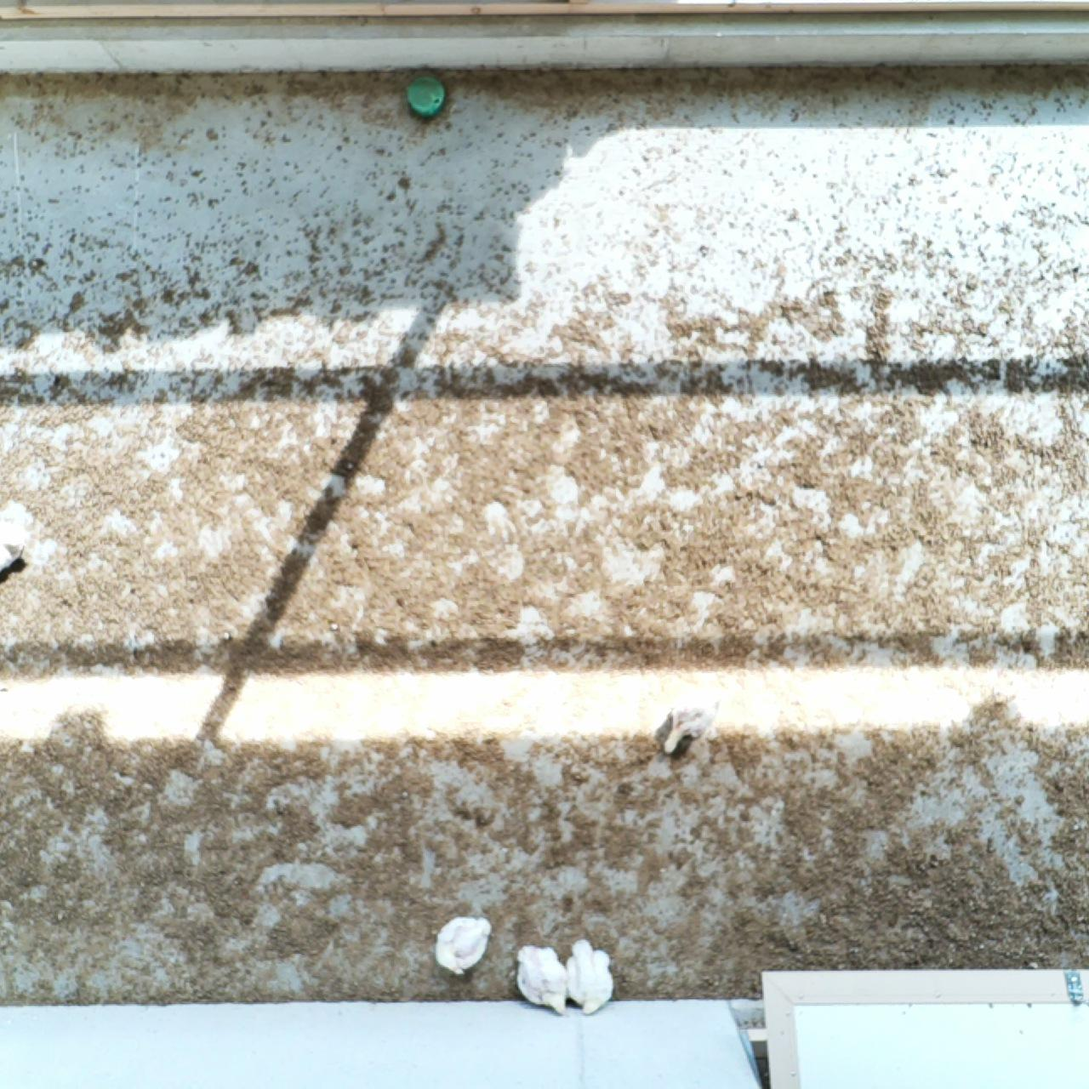chicken: (659, 673, 729, 754), (424, 910, 500, 981), (507, 940, 573, 1016), (563, 933, 619, 1022), (0, 509, 32, 560)
